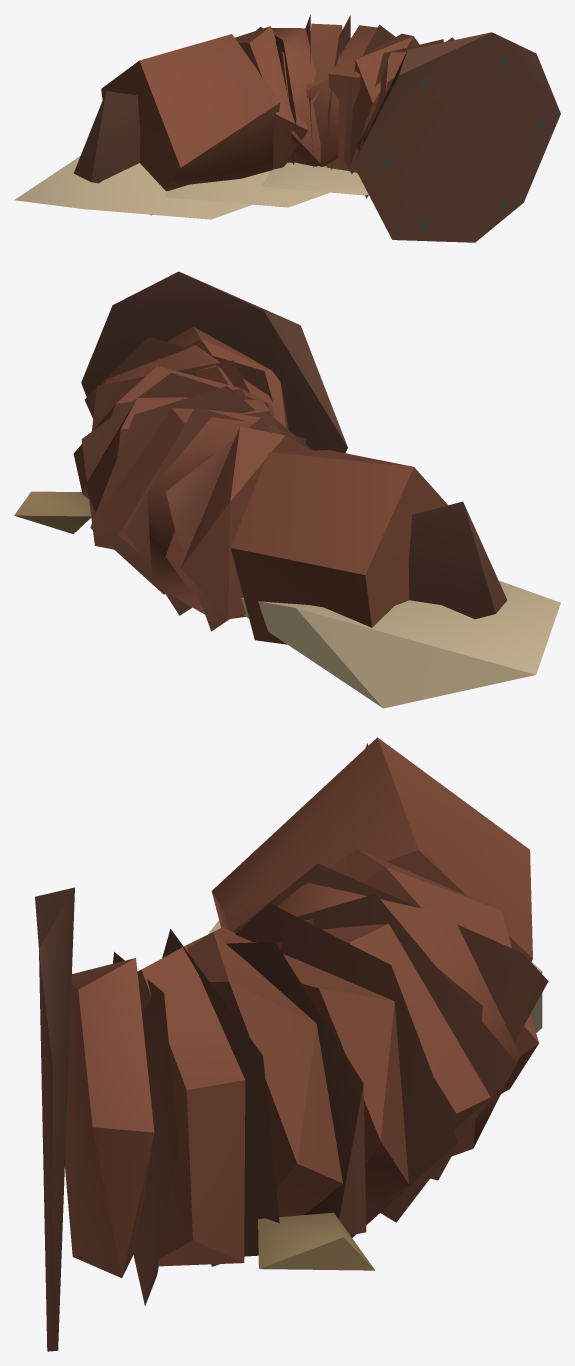
File: pump_elbow_c_lod2.glb
The picture shows the model from 3 angles, top to bottom: view 1: azimuth 30°, elevation 25°; view 2: azimuth 150°, elevation 25°; view 3: azimuth 270°, elevation 25°; orthographic projection. The views are drawn at different scales.
Parts seen in each view (by area): view 1: Surface.001; view 2: Surface.001; view 3: Surface.001.
Boxes of the visible parts, x1,y1,x2,y2 form: Surface.001: [14, 14, 560, 242]; Surface.001: [14, 271, 560, 708]; Surface.001: [35, 737, 548, 1351].
Size of the model in its own units: 5.13 by 2.27 by 2.57.
